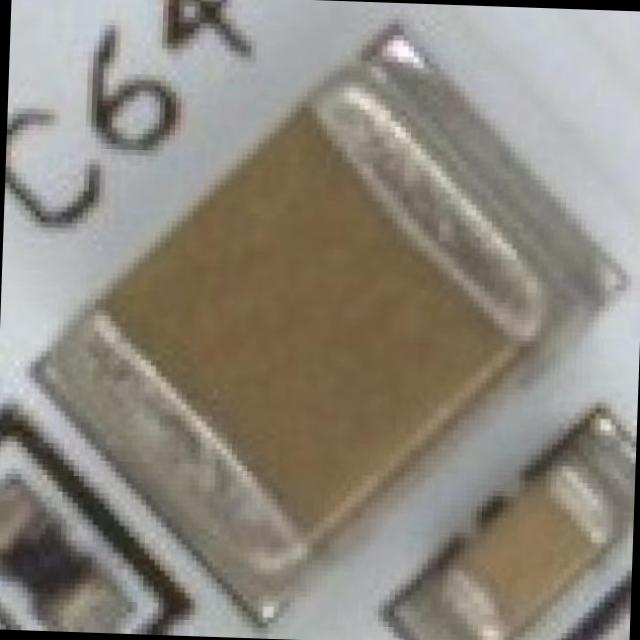capacitor: (26, 36, 616, 624), (405, 408, 633, 640)
